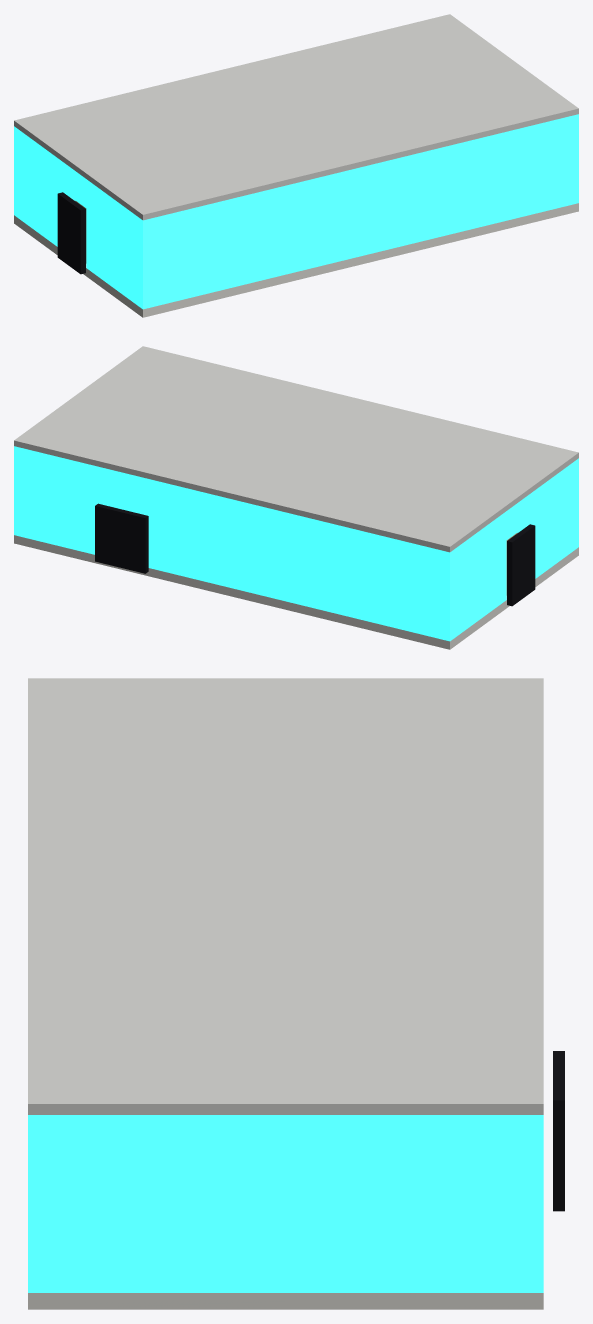
File: rdwe_laundromat.glb
The picture shows the model from 3 angles, top to bottom: view 1: azimuth 30°, elevation 25°; view 2: azimuth 150°, elevation 25°; view 3: azimuth 270°, elevation 25°; orthographic projection. The views are drawn at different scales.
Visible parts, largest first — view 1: Room_Ceiling, Room_Wall_S_1, Room_Floor, Room_Wall_W_3, Room_Wall_W_1, Beyond_lockers, Room_Wall_W_2; view 2: Room_Ceiling, Room_Wall_N_1, Room_Wall_N_3, Room_Wall_W_1, Room_Floor, Room_Wall_W_3, Beyond_drum, Beyond_lockers, Room_Wall_N_2, Room_Wall_W_2; view 3: Room_Ceiling, Room_Wall_E_1, Room_Floor, Room_Wall_N_3, Room_Wall_S_1, Beyond_drum.
Boxes of the visible parts, bbox=[...] form: Room_Ceiling: bbox=[14, 14, 578, 220]; Room_Wall_S_1: bbox=[140, 114, 578, 309]; Room_Floor: bbox=[14, 203, 578, 317]; Room_Wall_W_3: bbox=[86, 179, 139, 306]; Room_Wall_W_1: bbox=[17, 128, 75, 246]; Beyond_lockers: bbox=[57, 192, 85, 274]; Room_Wall_W_2: bbox=[70, 167, 86, 207]; Room_Ceiling: bbox=[14, 346, 578, 552]; Room_Wall_N_1: bbox=[144, 478, 452, 641]; Room_Wall_N_3: bbox=[14, 446, 106, 554]; Room_Wall_W_1: bbox=[453, 511, 506, 638]; Room_Floor: bbox=[14, 535, 578, 649]; Room_Wall_W_3: bbox=[517, 460, 575, 578]; Beyond_drum: bbox=[95, 503, 148, 573]; Beyond_lockers: bbox=[507, 524, 535, 606]; Room_Wall_N_2: bbox=[106, 469, 144, 514]; Room_Wall_W_2: bbox=[506, 499, 522, 539]; Room_Ceiling: bbox=[28, 678, 543, 1114]; Room_Wall_E_1: bbox=[40, 1115, 531, 1292]; Room_Floor: bbox=[28, 1293, 543, 1309]; Room_Wall_N_3: bbox=[531, 1115, 543, 1292]; Room_Wall_S_1: bbox=[28, 1115, 39, 1292]; Beyond_drum: bbox=[553, 1051, 564, 1211].
Bounding box in the file's own units: 16.75 × 3.7 × 8.75.
